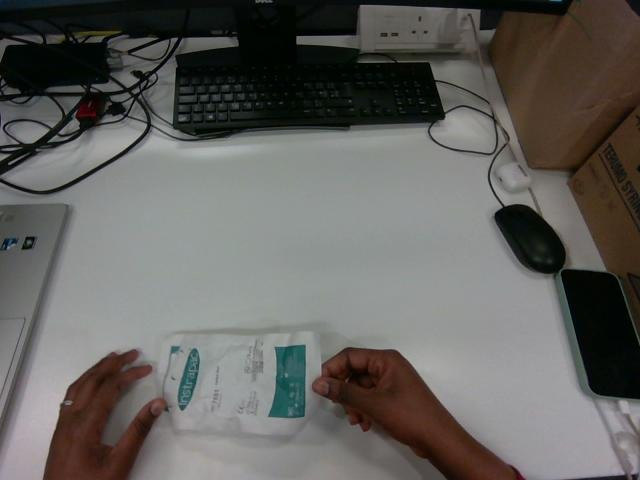gallipot: (159, 332, 320, 434)
